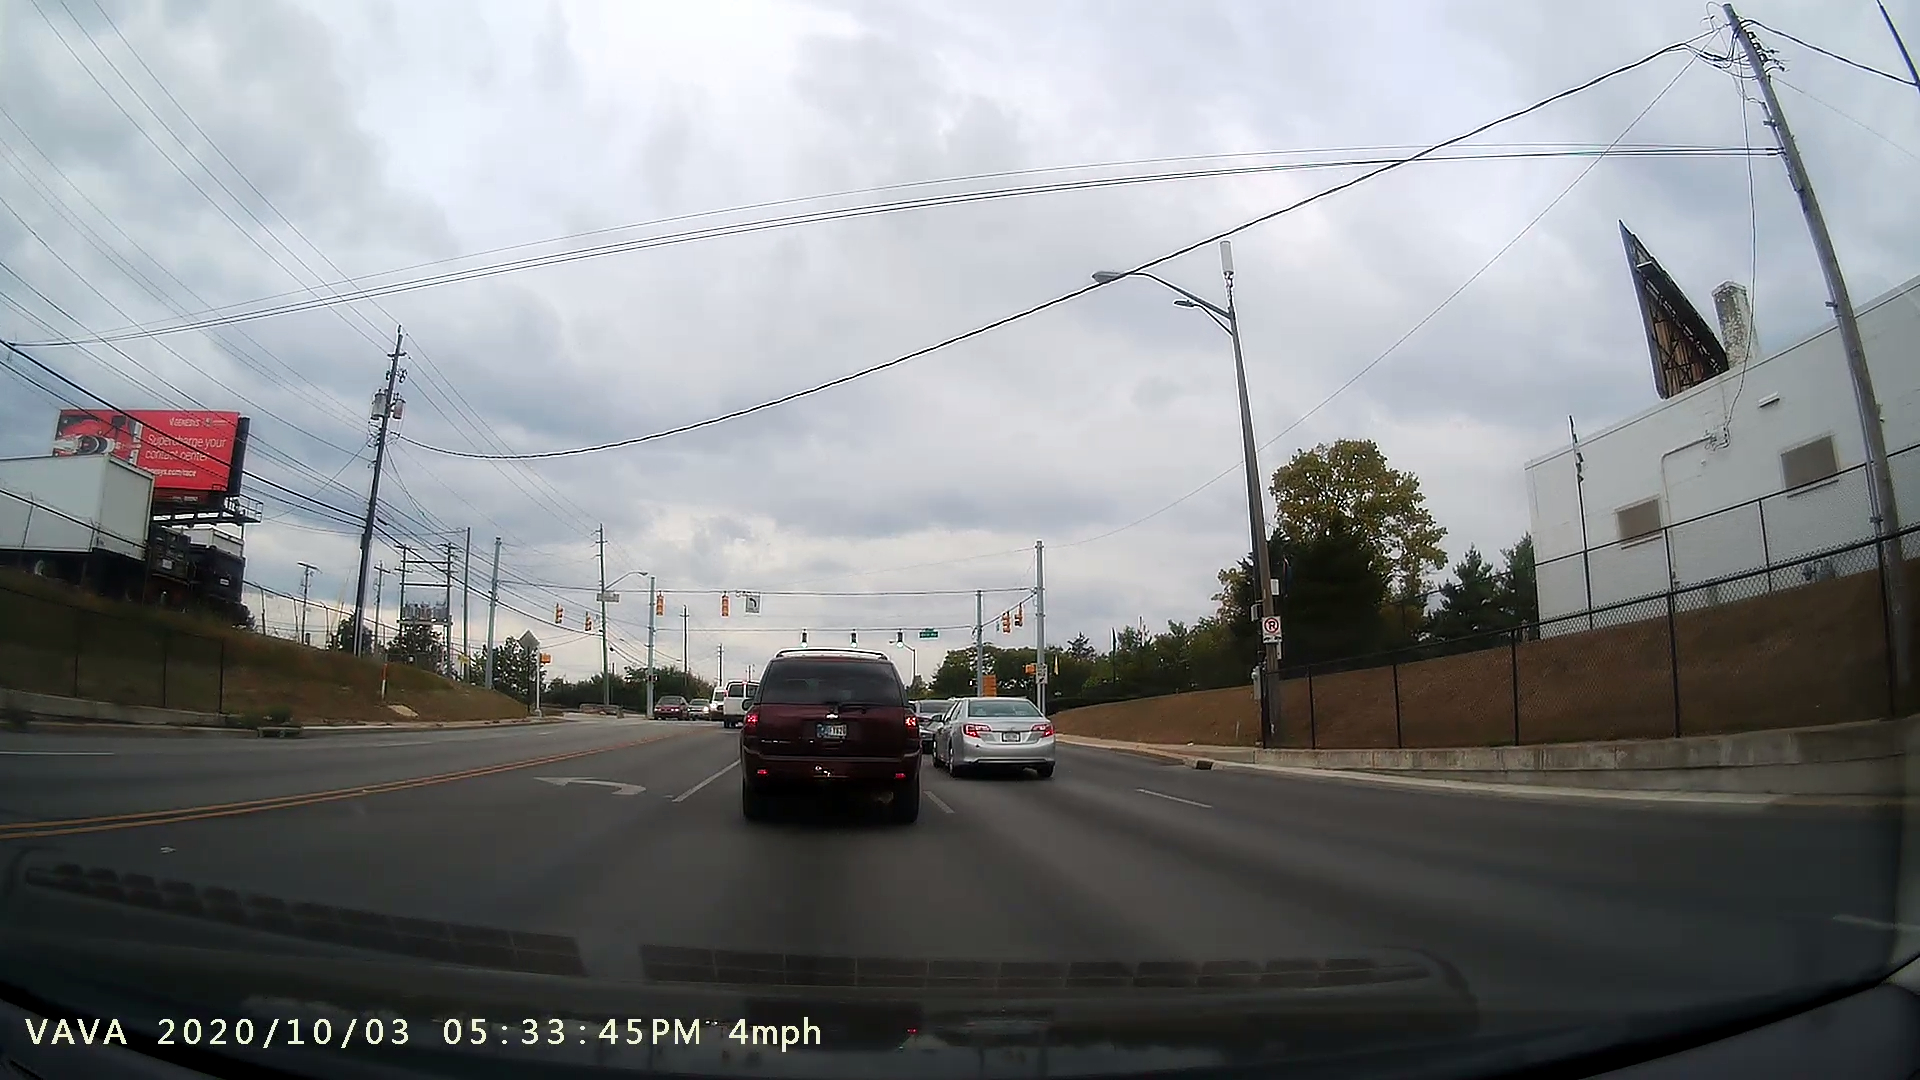left_turn: (524, 756, 649, 811)
